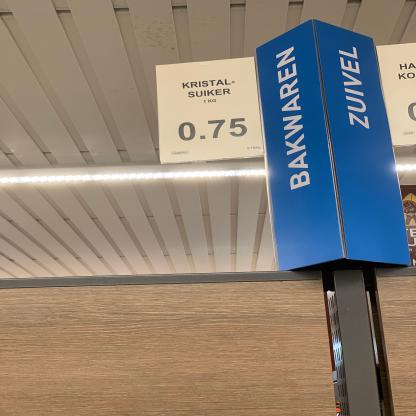prtg: (155, 57, 265, 165), (376, 43, 416, 147)
